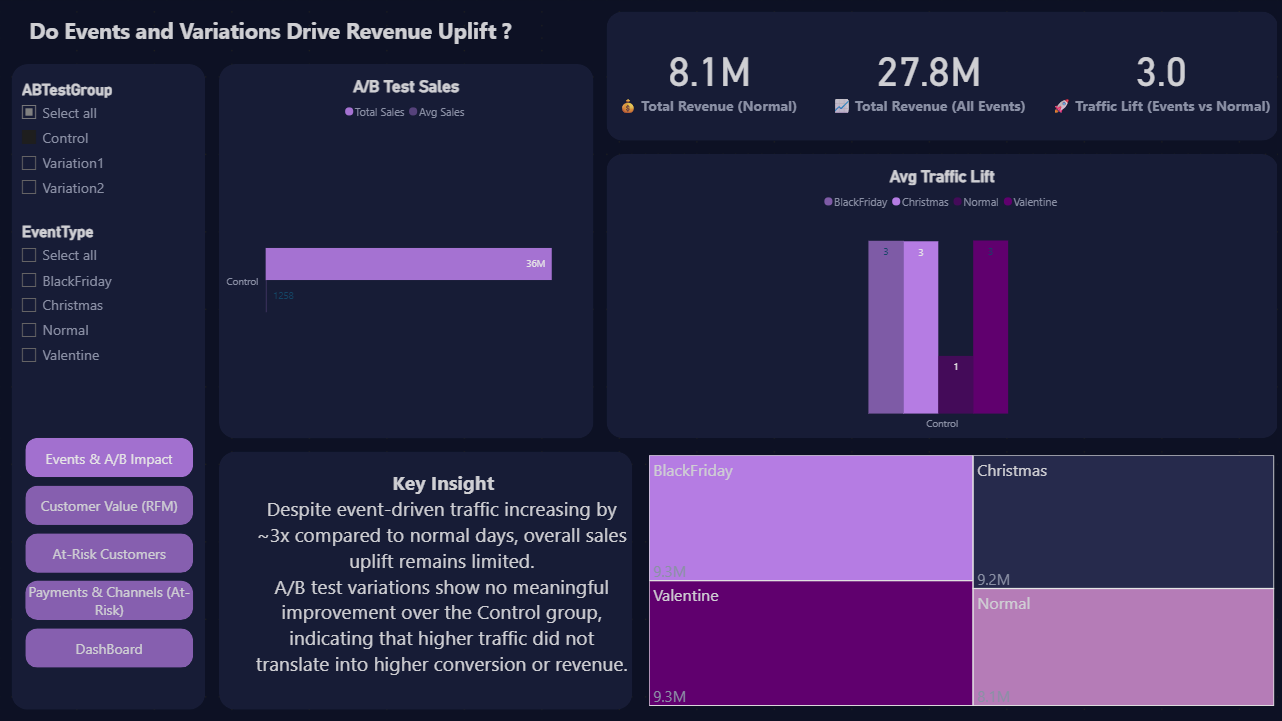

This screenshot's page, from the dashboard's own definition file:
{"tool":"powerbi","page":{"name":"Events & A/B Impact","canvas":[1600,900],"ordinal":0},"visuals":[{"type":"shape","box":[272,560,512,320],"z":0},{"type":"shape","box":[752,192,832,352],"z":1000},{"type":"shape","box":[752,16,832,160],"z":2000},{"type":"shape","box":[16,80,240,800],"z":3000},{"type":"shape","box":[272,80,464,464],"z":4000},{"type":"treemap","title":"Total Sales ","fields":{"Values":["Sum(transactions.SaleAmountEUR)"],"Group":["transactions.EventType","transactions.ABTestGroup"]},"box":[800,560,784,320],"z":5000},{"type":"clusteredBarChart","title":"A/B Test Sales","fields":{"Category":["transactions.ABTestGroup"],"Y":["Sum(transactions.SaleAmountEUR)","Avg(transactions.SaleAmountEUR)"]},"box":[272,96,464,448],"z":6000},{"type":"clusteredColumnChart","title":"Avg Traffic Lift","fields":{"Category":["transactions.ABTestGroup"],"Y":["Avg(transactions.TrafficMultiplier)"],"Series":["transactions.EventType"]},"box":[752,208,832,336],"z":7000},{"type":"card","fields":{"Values":["Measure Table (2).TrafficEventToNormal"]},"box":[1296,16,288,160],"z":8000},{"type":"slicer","fields":{"Values":["transactions.ABTestGroup"]},"box":[16,96,240,160],"z":10000},{"type":"slicer","fields":{"Values":["transactions.EventType"]},"box":[16,272,240,208],"z":11000},{"type":"card","fields":{"Values":["Measure Table.Total Sales (Normal)"]},"box":[752,16,256,160],"z":12000},{"type":"card","fields":{"Values":["Measure Table.Total Sales (Events)"]},"box":[1008,16,288,160],"z":13000},{"type":"textbox","box":[32,16,672,64],"z":14000},{"type":"textbox","box":[272,560,512,320],"z":15000},{"type":"pageNavigator","box":[32,544,208,288],"z":15005}]}

Visuals, with their boxes in screenshot pixels (x1, y1, x2, y2), scaled from the page's 1600x900 canvas onto the 1282x721 screenshot:
shape: {"left": 218, "top": 449, "right": 628, "bottom": 705}
shape: {"left": 603, "top": 154, "right": 1269, "bottom": 436}
shape: {"left": 603, "top": 13, "right": 1269, "bottom": 141}
shape: {"left": 13, "top": 64, "right": 205, "bottom": 705}
shape: {"left": 218, "top": 64, "right": 590, "bottom": 436}
"Total Sales " treemap: {"left": 641, "top": 449, "right": 1269, "bottom": 705}
"A/B Test Sales" clusteredBarChart: {"left": 218, "top": 77, "right": 590, "bottom": 436}
"Avg Traffic Lift" clusteredColumnChart: {"left": 603, "top": 167, "right": 1269, "bottom": 436}
card - Measure Table (2).TrafficEventToNormal: {"left": 1038, "top": 13, "right": 1269, "bottom": 141}
slicer - transactions.ABTestGroup: {"left": 13, "top": 77, "right": 205, "bottom": 205}
slicer - transactions.EventType: {"left": 13, "top": 218, "right": 205, "bottom": 385}
card - Measure Table.Total Sales (Normal): {"left": 603, "top": 13, "right": 808, "bottom": 141}
card - Measure Table.Total Sales (Events): {"left": 808, "top": 13, "right": 1038, "bottom": 141}
textbox: {"left": 26, "top": 13, "right": 564, "bottom": 64}
textbox: {"left": 218, "top": 449, "right": 628, "bottom": 705}
pageNavigator: {"left": 26, "top": 436, "right": 192, "bottom": 667}
